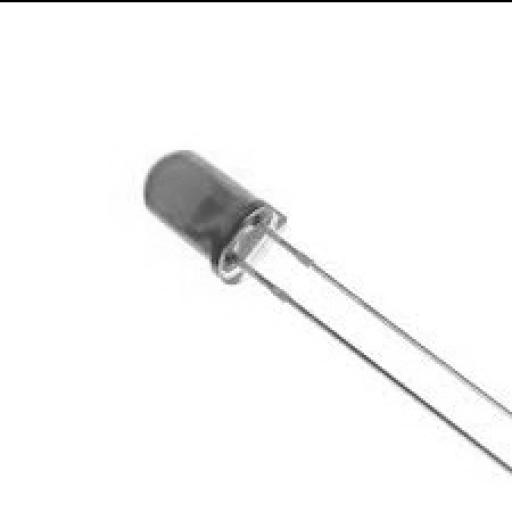LED: (141, 146, 510, 508)
